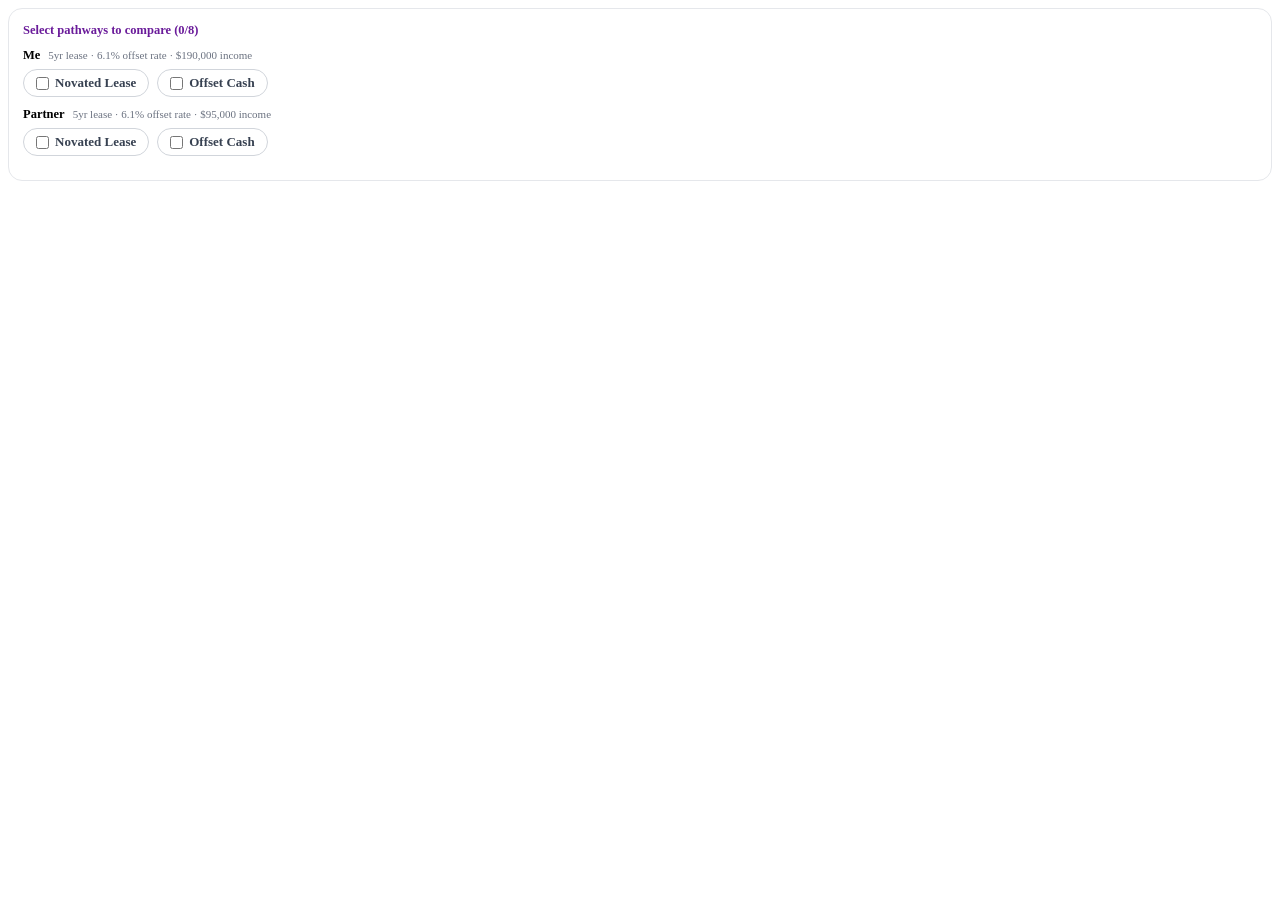
ComparatorView with different taxable incomes (you vs your partner) › compares rather than blocks, labels each NL column with its income, and shows the household note
Note: Checkboxes are in quote order: [Me NL, Me cash, Partner NL, Partner cash].
Click the checkbox labelled "Novated Lease" below "$190,000". click: (42, 83)
box: [36,76,49,90]
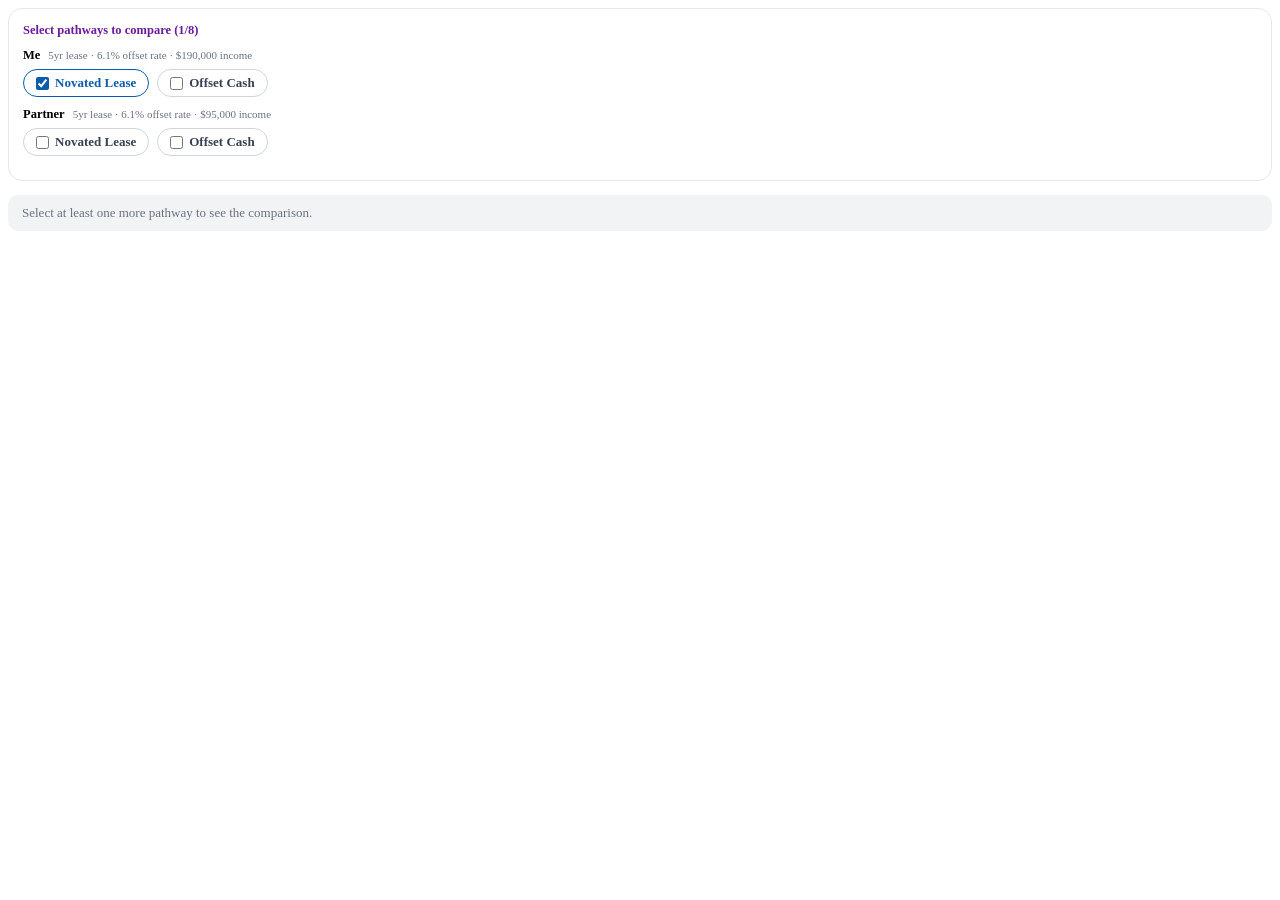
Click the checkbox labelled "Novated Lease" below "Partner". click: (42, 142)
box: [36,136,49,148]
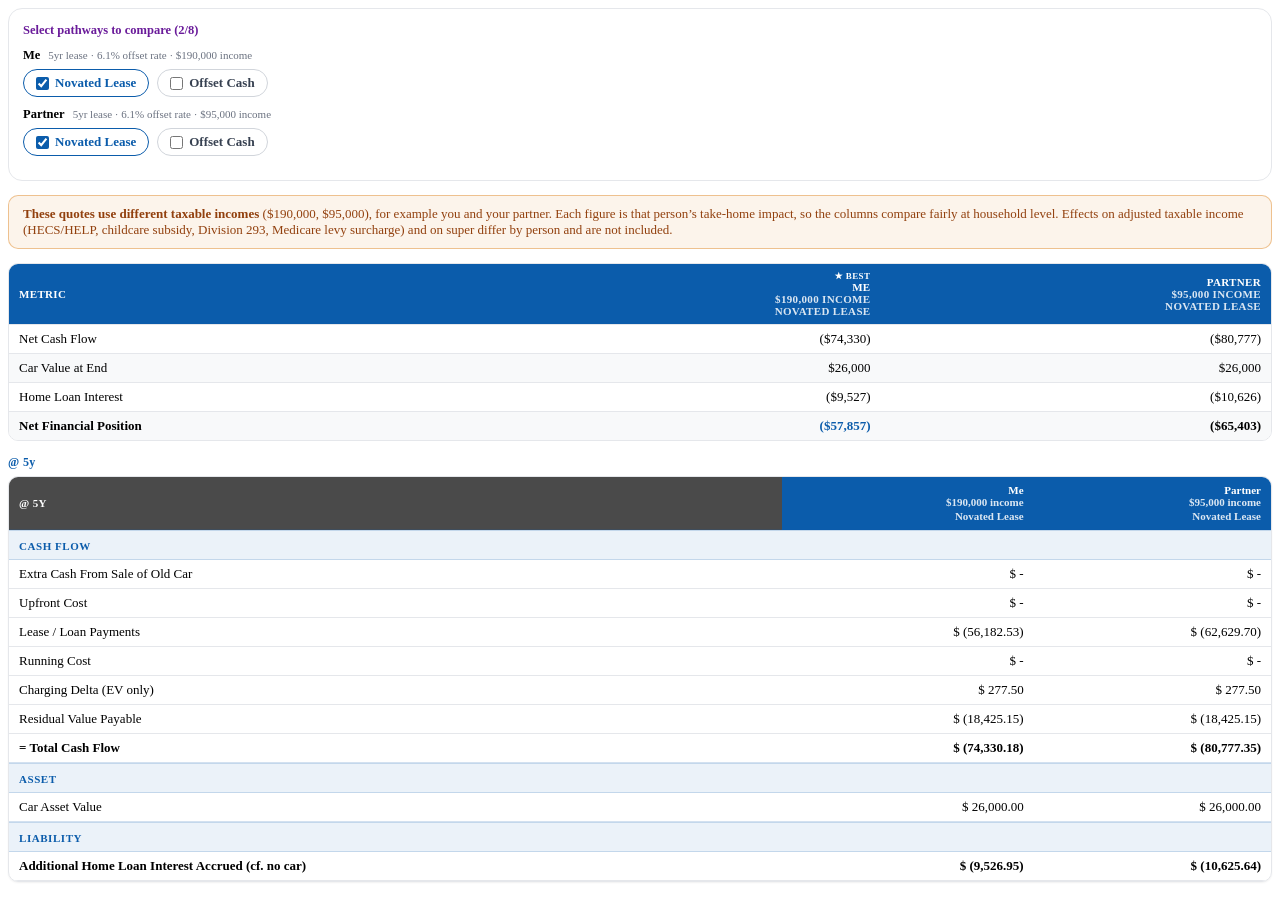
Result: the text "Net Financial Position" is shown at [9,411,490,440]
Result: the text "These quotes use different taxable incomes" is shown at [23,206,259,221]
Result: the text "$190,000 income" below "★ BEST" is shown at [775,293,870,305]
